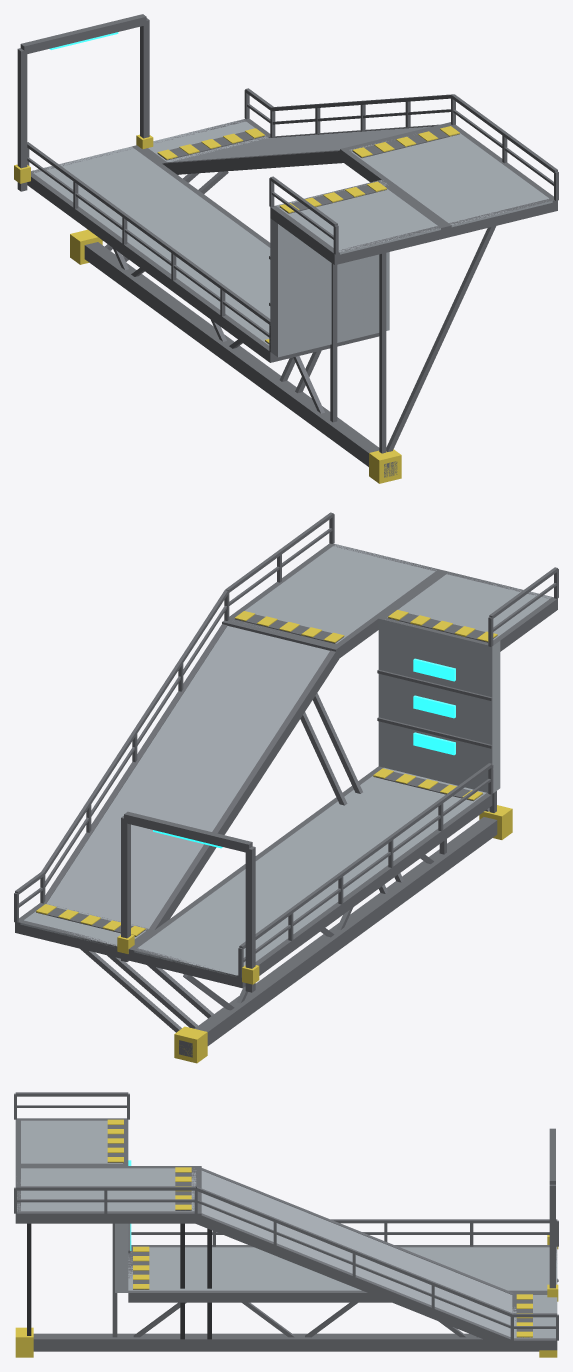
Rendered from scaffold_gloo_rise_g20.glb.
3 views of the same model, one above another, from view 1: azimuth 30°, elevation 25°; view 2: azimuth 150°, elevation 25°; view 3: azimuth 270°, elevation 25° (orthographic). The views are drawn at different scales.
Visible parts, largest first — view 1: Deck_a, GlooWall, Deck_ramp_top, Spine, Deck_b, Frame_a_-1, Deck_ramp, Frame_ramp_-1, Hanger_ramp_top_1, Rail_a_-1, Hanger_b_1, Deck_ramp_foot (+16 smaller); view 2: Deck_ramp, Deck_a, GlooWall, Deck_ramp_top, Spine, Deck_b, Frame_a_-1, Frame_ramp_-1, Frame_ramp_1, Rail_ramp_1, Rail_a_-1, PortalLintel (+17 smaller); view 3: Deck_ramp, Deck_a, Spine, Deck_ramp_top, Frame_ramp_1, Deck_b, Frame_a_1, Frame_ramp_top_1, Rail_ramp_1, MidRail_ramp_1, Rail_a_-1, Frame_ramp_-1 (+19 smaller).
Part boxes in pixels (bbox=[...]): Deck_a: bbox=[31, 146, 270, 345]; GlooWall: bbox=[270, 180, 389, 357]; Deck_ramp_top: bbox=[349, 133, 552, 227]; Spine: bbox=[84, 242, 397, 477]; Deck_b: bbox=[276, 183, 440, 254]; Frame_a_-1: bbox=[27, 172, 275, 362]; Deck_ramp: bbox=[172, 126, 430, 161]; Frame_ramp_-1: bbox=[162, 150, 343, 174]; Hanger_ramp_top_1: bbox=[386, 226, 496, 451]; Rail_a_-1: bbox=[27, 142, 270, 324]; Hanger_b_1: bbox=[379, 253, 386, 453]; Deck_ramp_foot: bbox=[148, 119, 268, 161]; Deck_ramp: bbox=[46, 626, 329, 928]; Deck_a: bbox=[134, 767, 486, 976]; GlooWall: bbox=[378, 619, 500, 792]; Deck_ramp_top: bbox=[234, 544, 436, 643]; Spine: bbox=[179, 817, 497, 1057]; Deck_b: bbox=[385, 572, 551, 639]; Frame_a_-1: bbox=[237, 793, 490, 988]; Frame_ramp_-1: bbox=[149, 650, 338, 930]; Frame_ramp_1: bbox=[44, 624, 227, 903]; Rail_ramp_1: bbox=[41, 590, 228, 874]; Rail_a_-1: bbox=[239, 763, 492, 949]; PortalLintel: bbox=[124, 811, 252, 852]; Deck_ramp: bbox=[201, 1170, 512, 1336]; Deck_a: bbox=[128, 1247, 557, 1290]; Spine: bbox=[33, 1333, 539, 1351]; Deck_ramp_top: bbox=[17, 1168, 196, 1211]; Frame_ramp_1: bbox=[194, 1213, 511, 1348]; Deck_b: bbox=[21, 1120, 122, 1163]; Frame_a_1: bbox=[128, 1290, 547, 1302]; Frame_ramp_top_1: bbox=[15, 1211, 196, 1223]; Rail_ramp_1: bbox=[195, 1186, 512, 1316]; MidRail_ramp_1: bbox=[197, 1200, 510, 1328]; Rail_a_-1: bbox=[331, 1219, 557, 1223]; Frame_ramp_-1: bbox=[201, 1168, 513, 1294].
Size of the model in its own units: 5.24 by 5.79 by 12.07.
